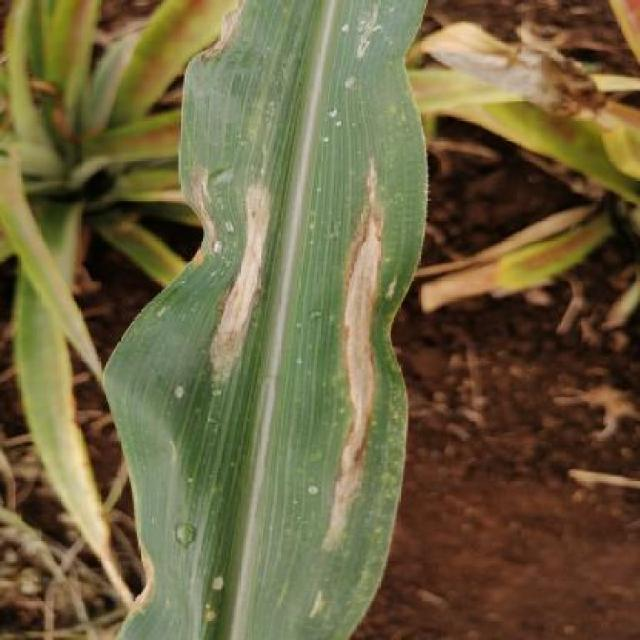Corn_Leaf_Blight: (104, 1, 440, 640)
